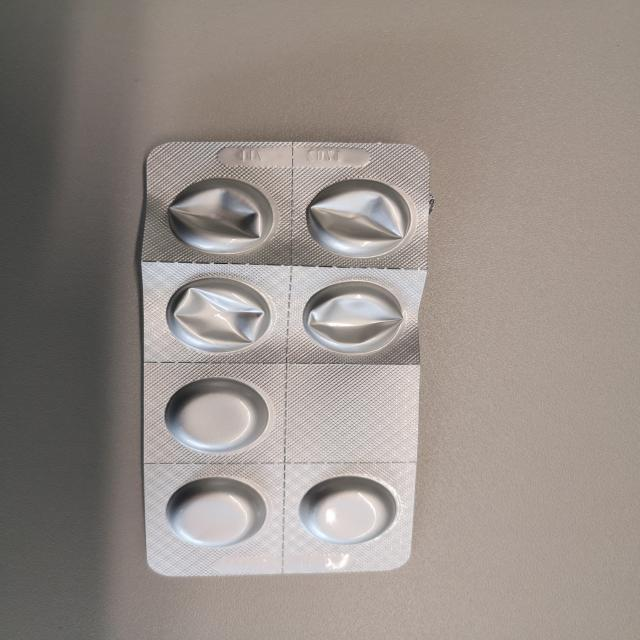Empty: (162, 175, 281, 258), (304, 174, 415, 260), (163, 275, 274, 355), (299, 279, 411, 358)
Pill: (157, 375, 275, 456), (159, 474, 271, 549), (295, 473, 401, 548)
